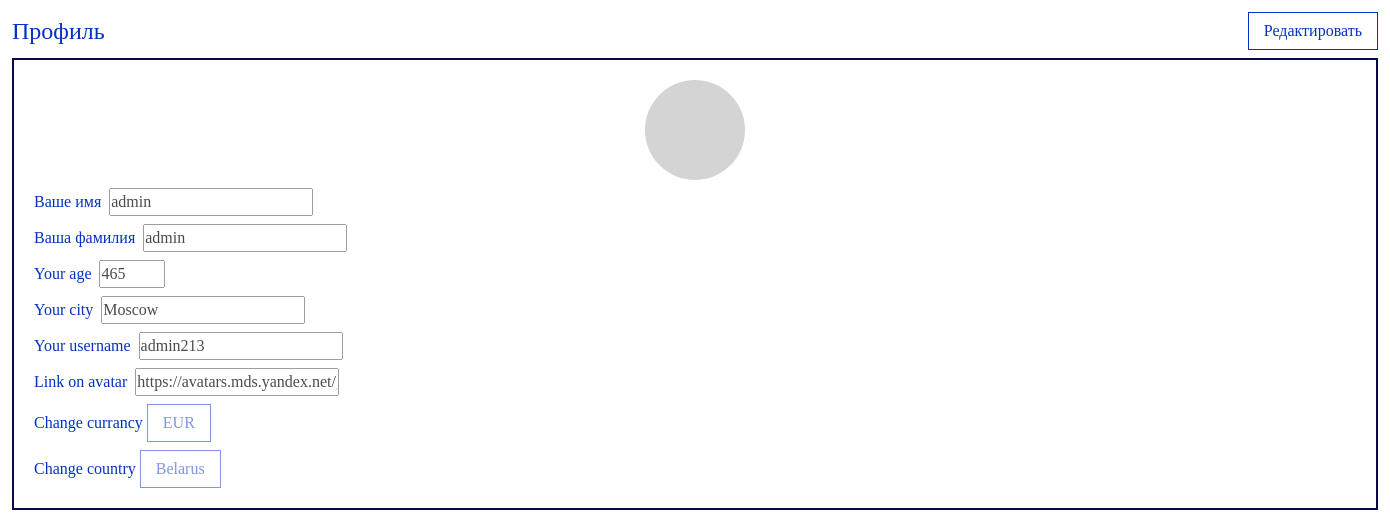
Test: EditableProfileCard › Change state profile cancel
Click the button with test id "EditableProfileCardHeader.EditButton" at (1313, 31), box [1248,12,1378,50]
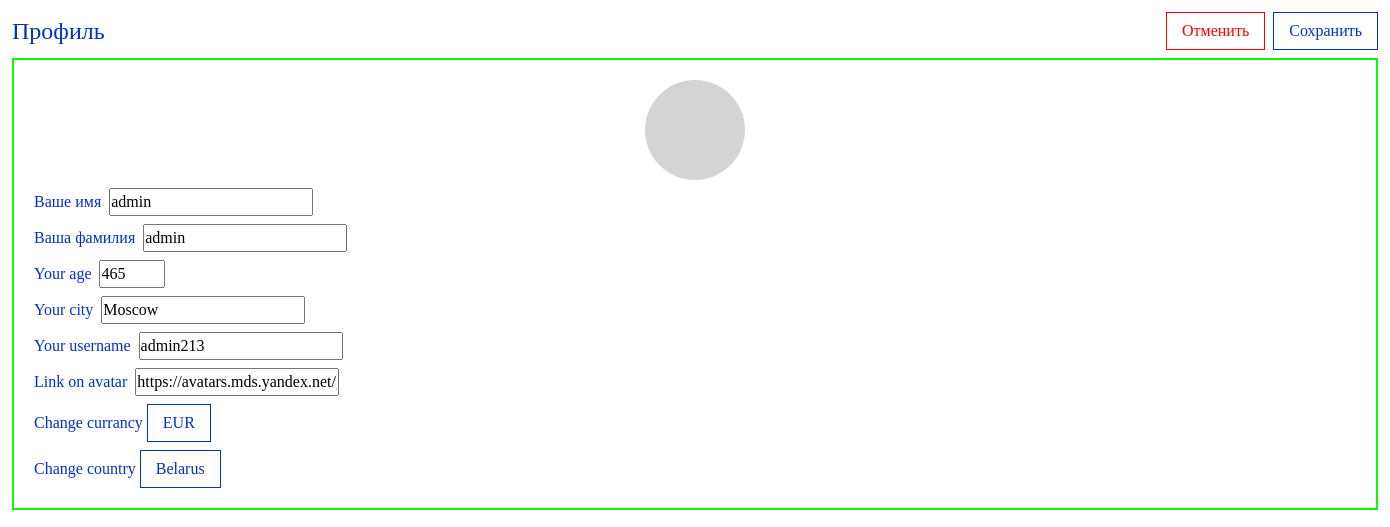
Clear the field with test id "ProfileCard.firstname" at (211, 202), box [109,188,313,216]
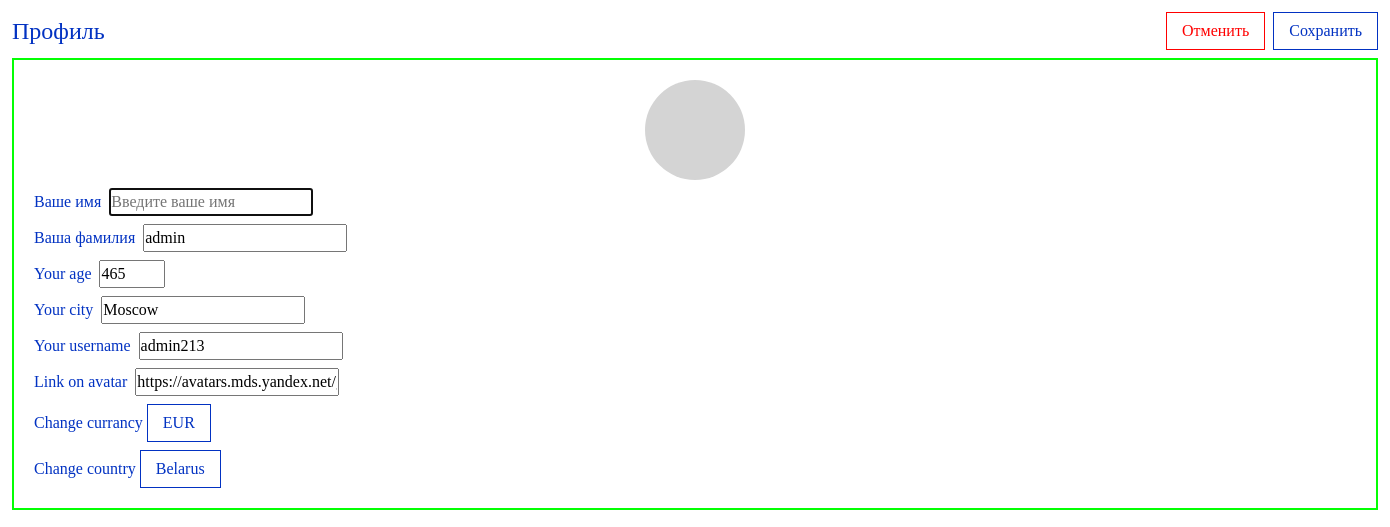
Clear the field with test id "ProfileCard.lastname" at (245, 238), box [143,224,347,252]
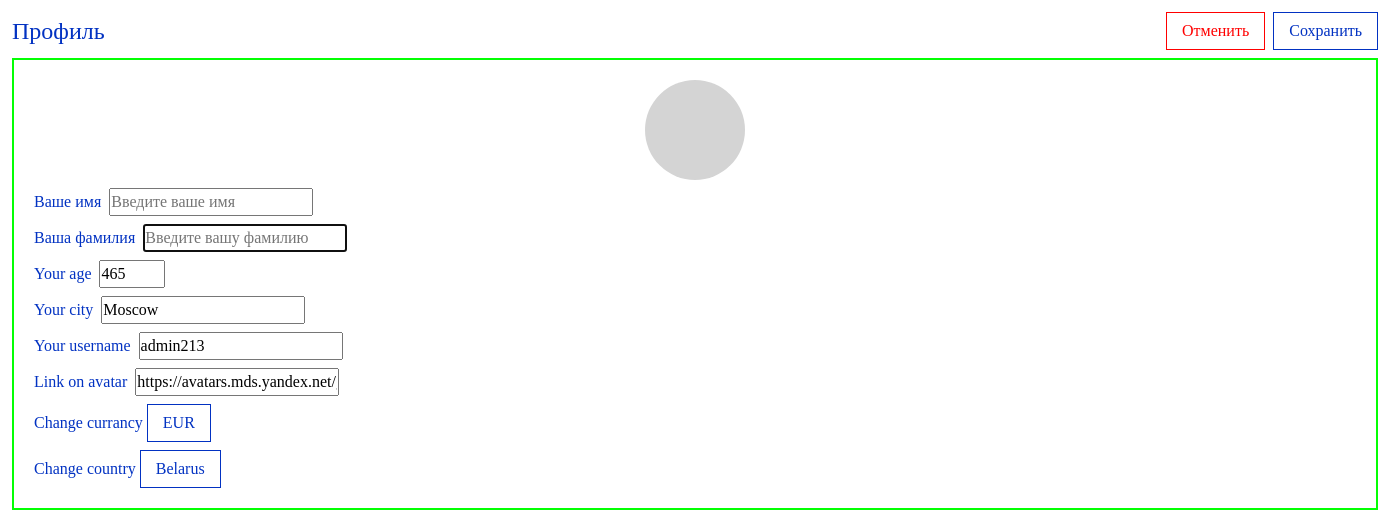
Type "user" into the field with test id "ProfileCard.firstname" at (211, 202), box [109,188,313,216]
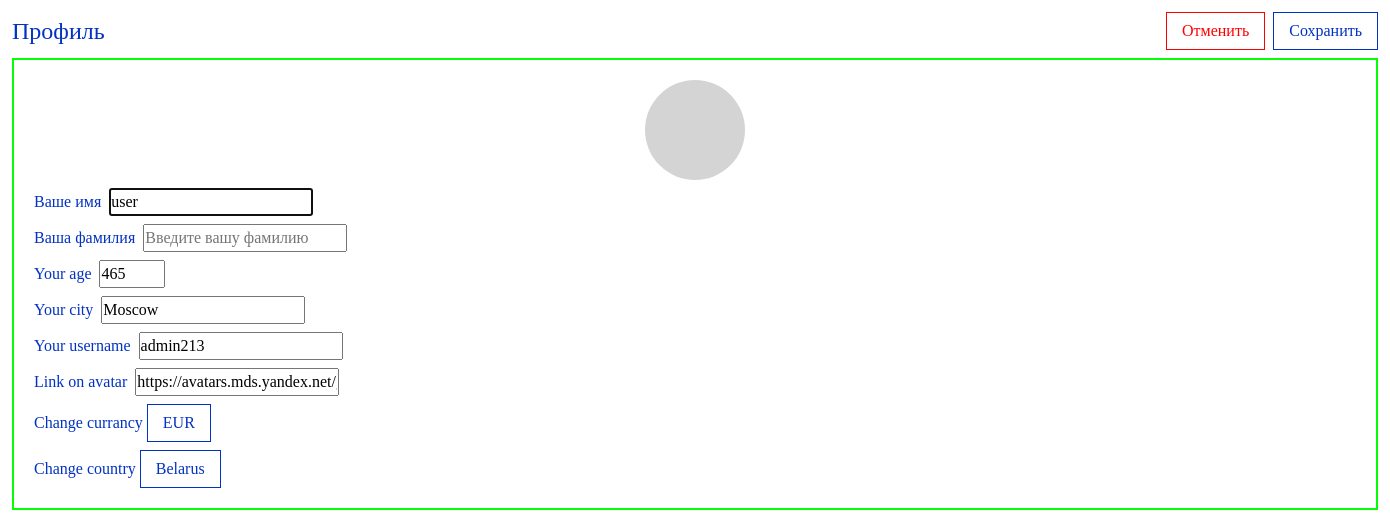
Type "user" into the field with test id "ProfileCard.lastname" at (245, 238), box [143,224,347,252]
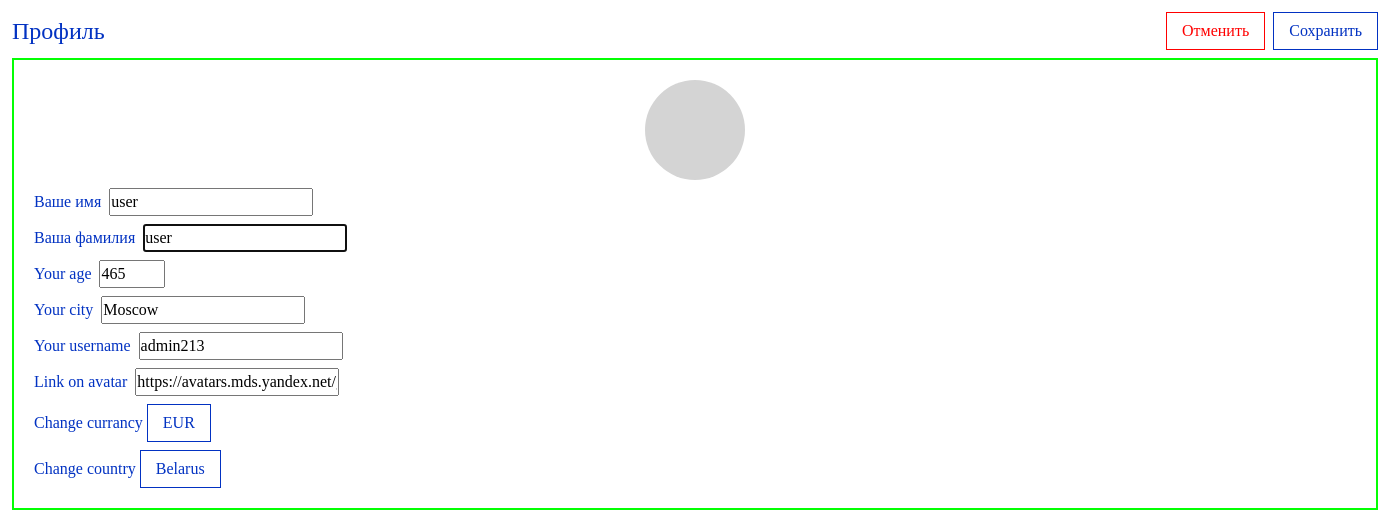
Click the button with test id "EditableProfileCardHeader.CancelButton" at (1216, 31), box [1166,12,1265,50]
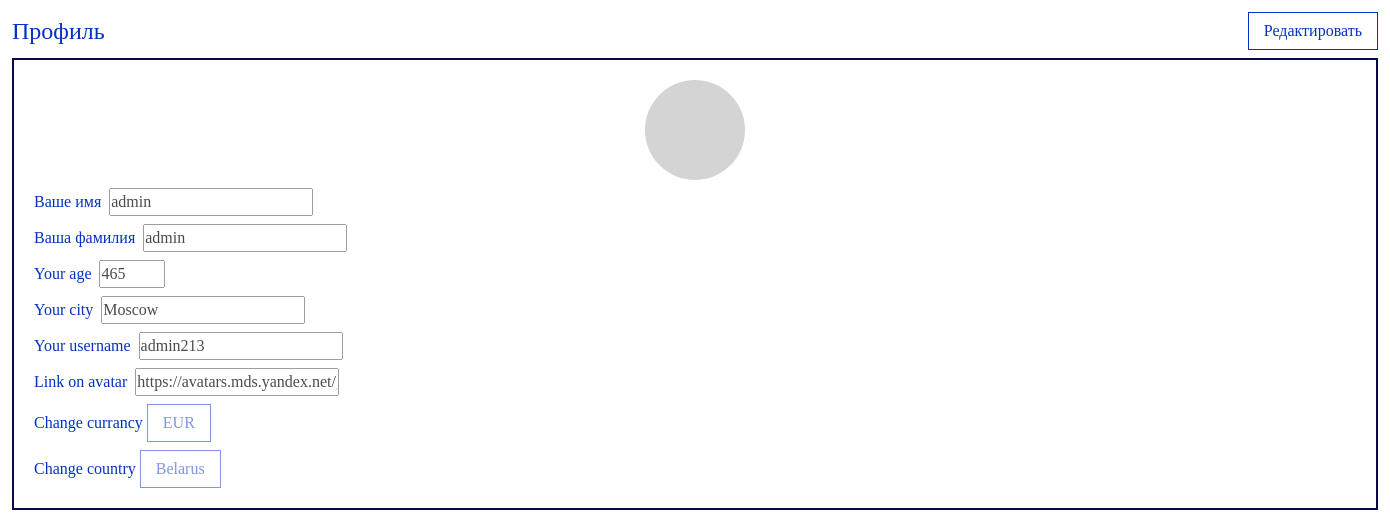
Result: the field with test id "ProfileCard.firstname" holds "admin" at [109,188,313,216]
Result: the field with test id "ProfileCard.lastname" holds "admin" at [143,224,347,252]
